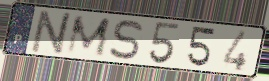4: (221, 29, 248, 73)
5: (147, 21, 182, 66), (186, 25, 216, 68)
M: (64, 15, 113, 58)
N: (28, 9, 76, 57)
S: (107, 18, 145, 62)
